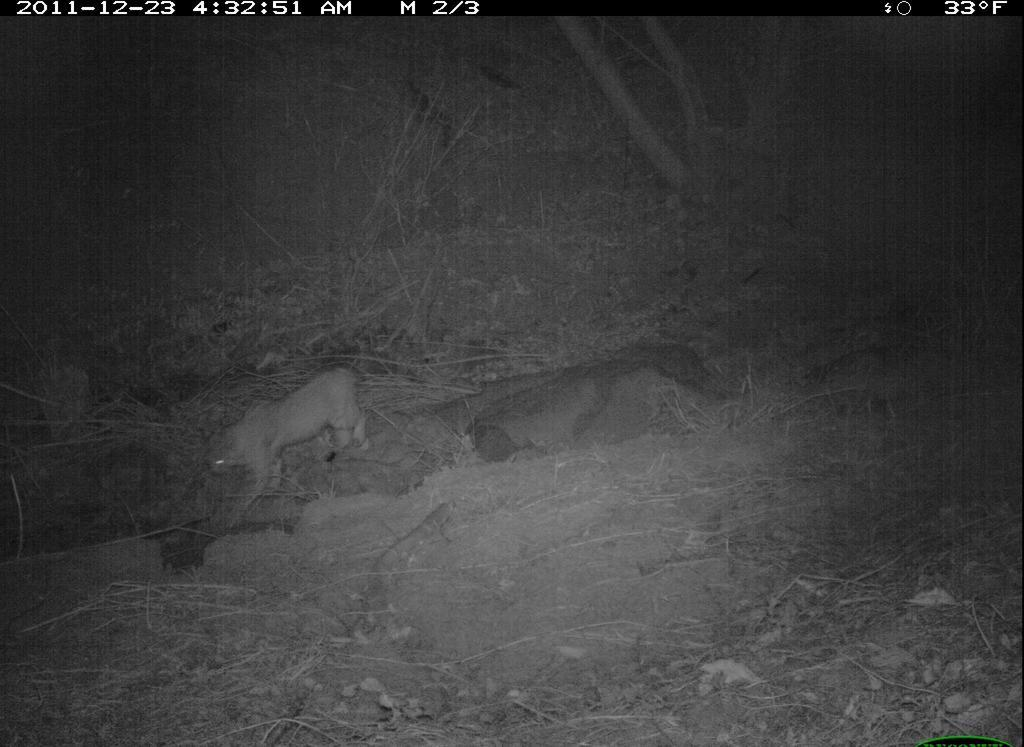bobcat: (201, 361, 392, 525)
